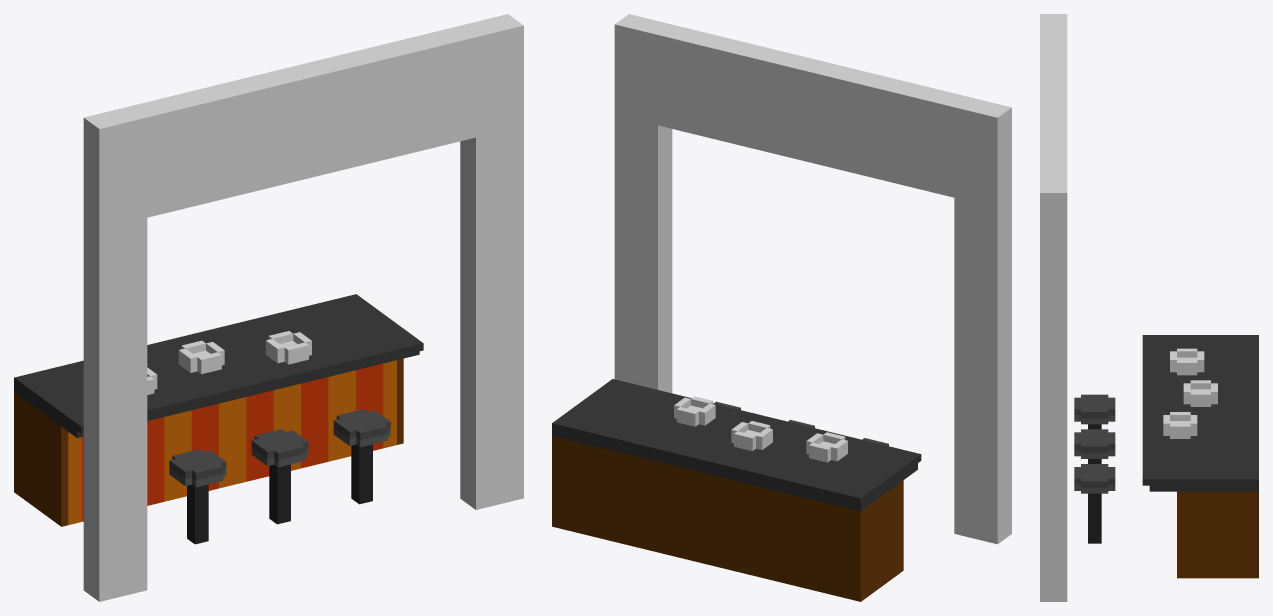
File: barOne.glb
3 views of the same model, side by side, from view 1: azimuth 30°, elevation 25°; view 2: azimuth 150°, elevation 25°; view 3: azimuth 270°, elevation 25° (orthographic). The views are drawn at different scales.
Parts seen in each view (by area): view 1: ObjObject; view 2: ObjObject; view 3: ObjObject.
Part boxes in pixels (box(x1,y1,x2,y2)): ObjObject: box(14, 14, 523, 601); ObjObject: box(552, 14, 1011, 601); ObjObject: box(1040, 14, 1258, 601).
Size of the model in its own units: 6.2 by 6.6 by 3.2.
Materials: 1 (1 with a texture image).
